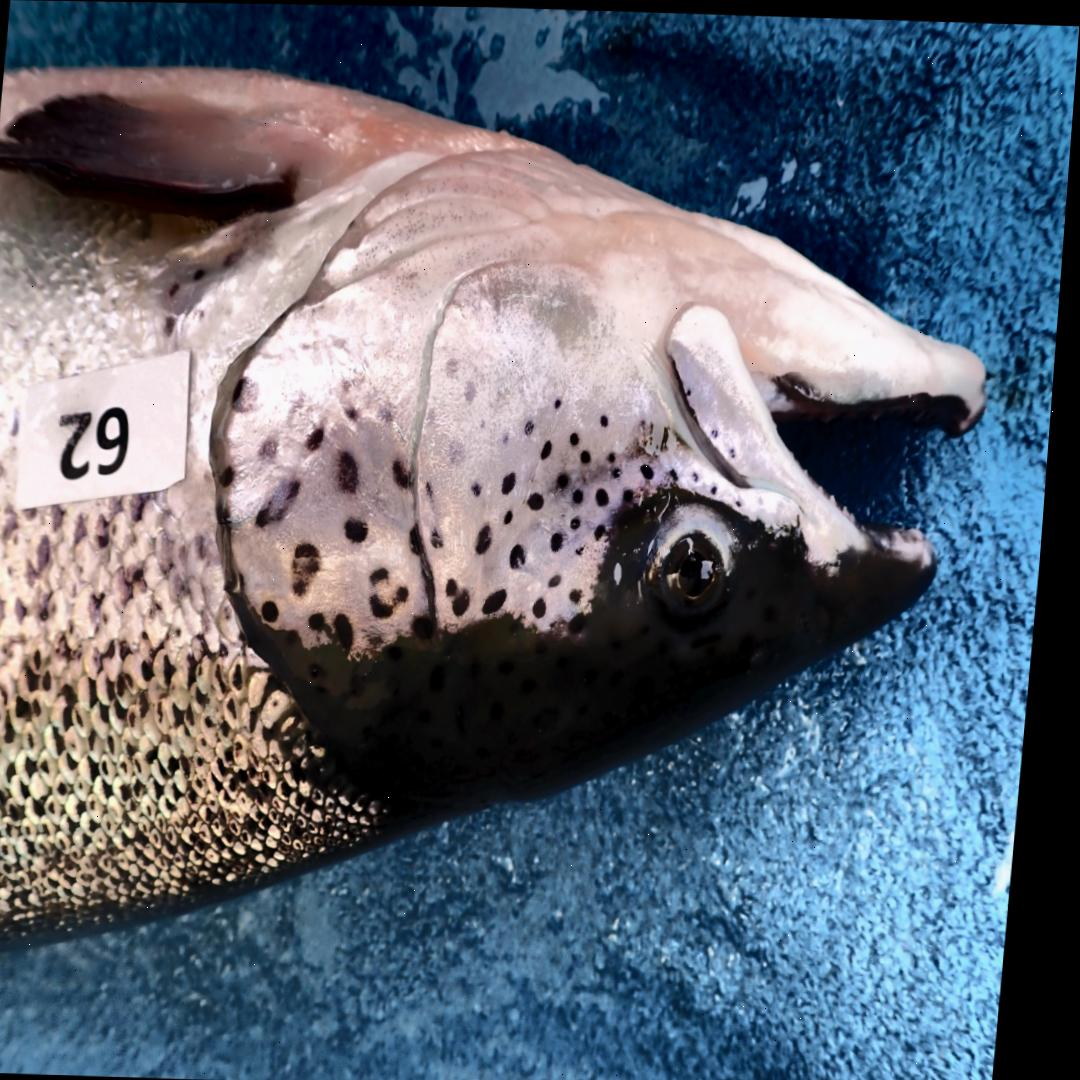spot: (263, 479, 307, 526), (300, 542, 328, 596), (343, 449, 366, 494), (237, 376, 264, 411), (342, 612, 362, 649), (491, 587, 515, 612), (379, 593, 402, 617), (352, 518, 375, 541), (399, 458, 417, 487), (422, 614, 444, 637), (483, 522, 499, 552), (312, 426, 330, 450), (270, 599, 288, 622), (461, 590, 478, 614), (577, 610, 595, 632), (454, 577, 473, 597), (265, 438, 283, 459), (518, 542, 533, 567), (317, 611, 334, 630), (508, 470, 522, 492), (378, 567, 397, 583), (541, 595, 555, 616), (534, 490, 551, 507), (402, 585, 417, 603), (227, 465, 240, 485), (418, 524, 427, 552), (558, 530, 570, 550), (563, 471, 576, 489), (603, 486, 616, 504), (439, 527, 451, 546), (647, 461, 660, 477), (547, 439, 558, 457), (577, 587, 591, 601), (351, 407, 365, 420), (579, 487, 590, 503), (602, 522, 613, 538), (630, 487, 641, 503), (378, 634, 393, 644), (557, 573, 569, 585), (432, 480, 440, 497), (531, 418, 540, 433), (587, 448, 597, 461), (617, 465, 628, 476), (578, 515, 588, 527), (576, 430, 585, 443), (479, 482, 488, 494), (512, 508, 520, 521), (606, 413, 614, 425), (614, 450, 621, 461), (508, 432, 515, 443), (583, 543, 591, 552), (560, 397, 567, 407), (443, 542, 449, 544)
